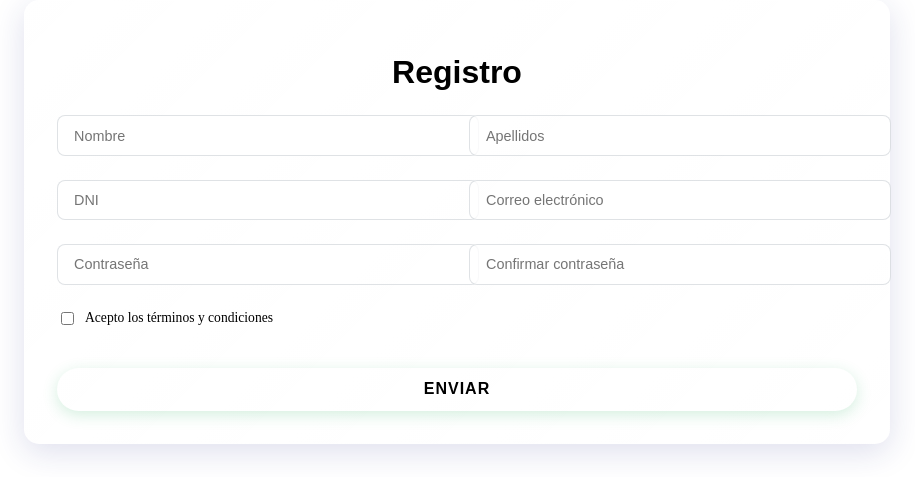
Test: registerUser.vue - reglas de validacion › regla requiredCheckbox: exige aceptar los terminos
Type "Juan" into the field with id "name". click: (268, 136)
box: [57,115,479,156]
Type "Perez" into the field with id "lastName". click: (680, 136)
box: [469,115,891,156]
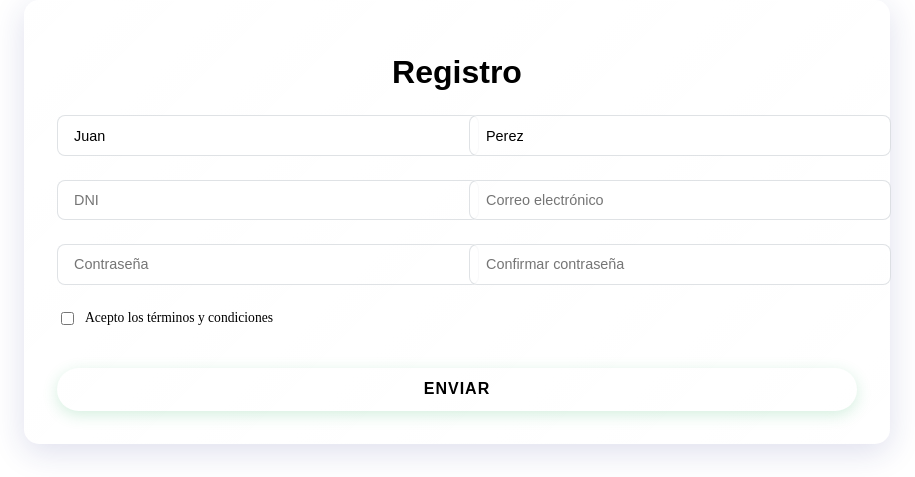
Type "12345678A" into the field with id "dni". click: (268, 200)
box: [57,180,479,220]
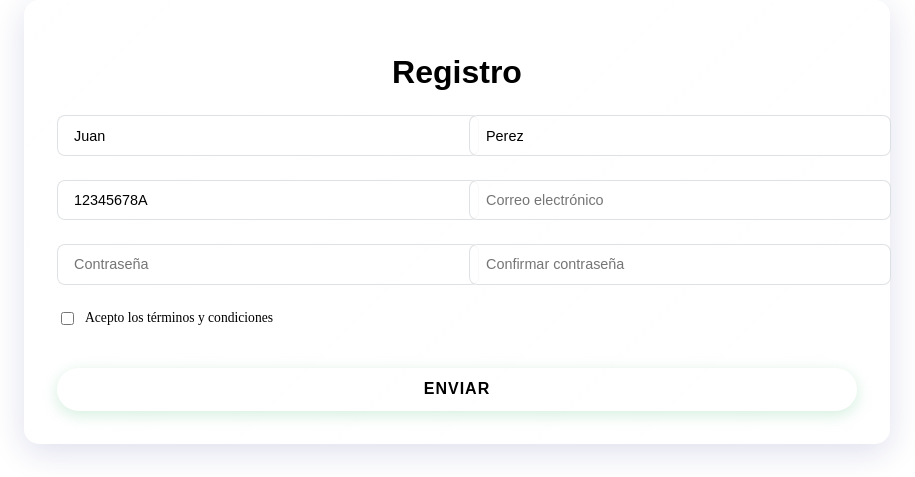
Type "juan@example.com" into the field with id "email". click: (680, 200)
box: [469,180,891,220]
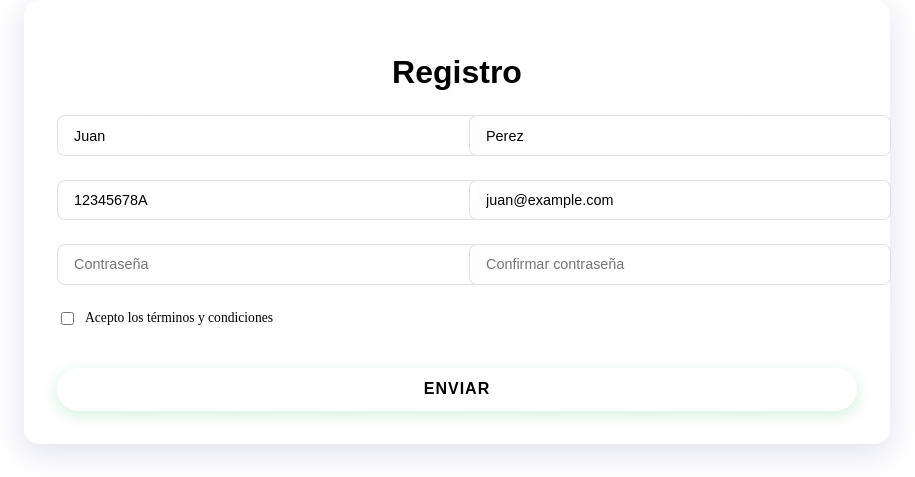
Type "12345678" into the password field with placeholder "Contraseña". click: (268, 264)
box: [57,244,479,285]
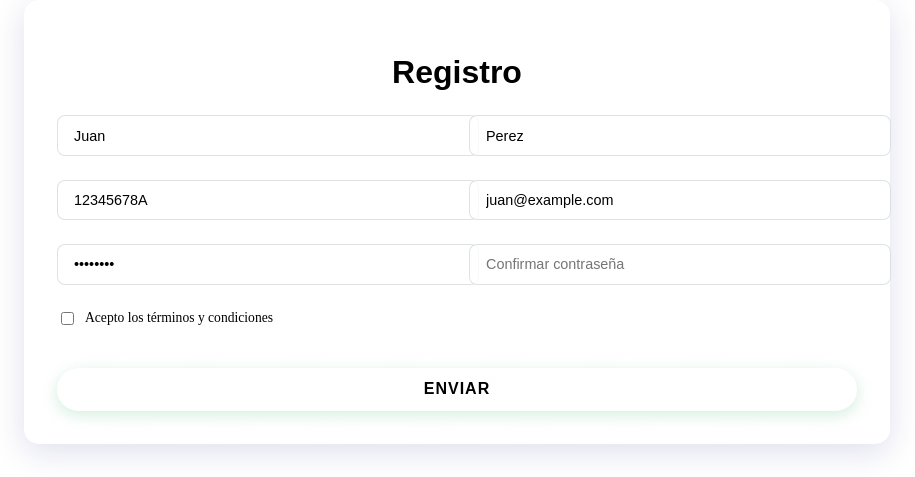
Type "12345678" into the password field with id "confirmPassword". click: (680, 264)
box: [469,244,891,285]
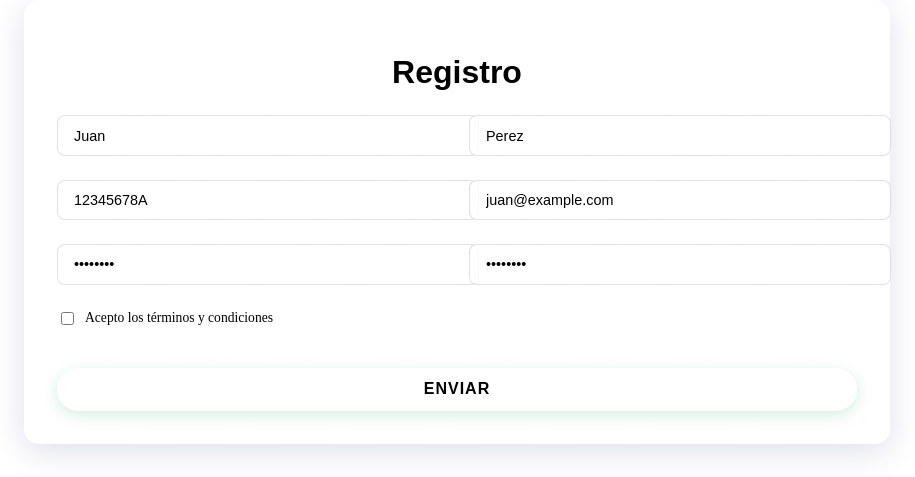
Submit the form, box [57,115,857,411]
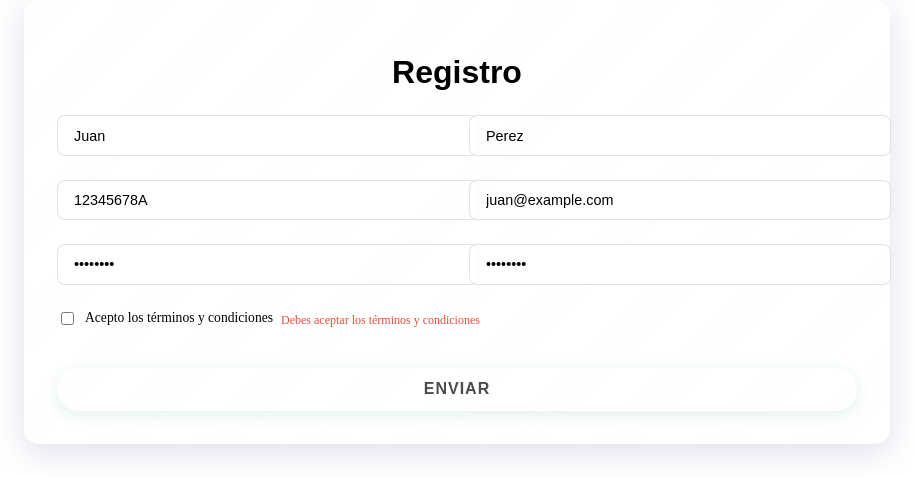
Result: the text "Debes aceptar los términos y condiciones" is shown at [281,313,480,328]
